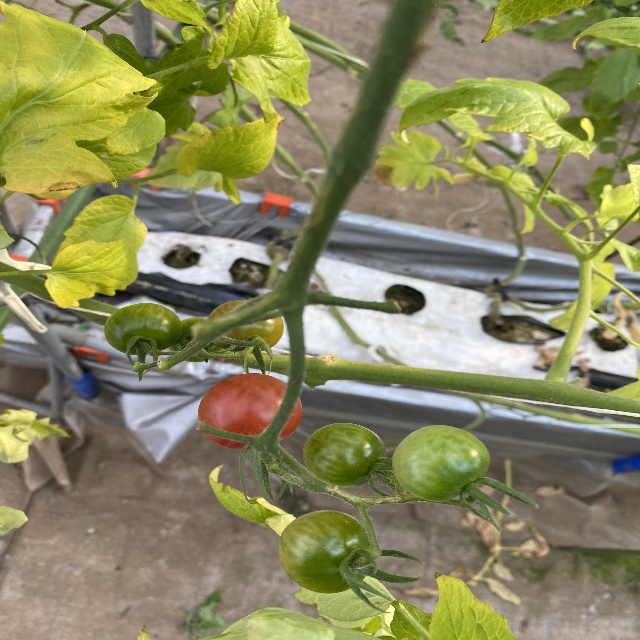l_fully_ripened: (197, 373, 304, 449)
l_green: (279, 509, 372, 594), (392, 425, 489, 502), (304, 423, 386, 488), (104, 303, 184, 355), (170, 316, 225, 362)
l_half_ripened: (207, 300, 284, 354)
